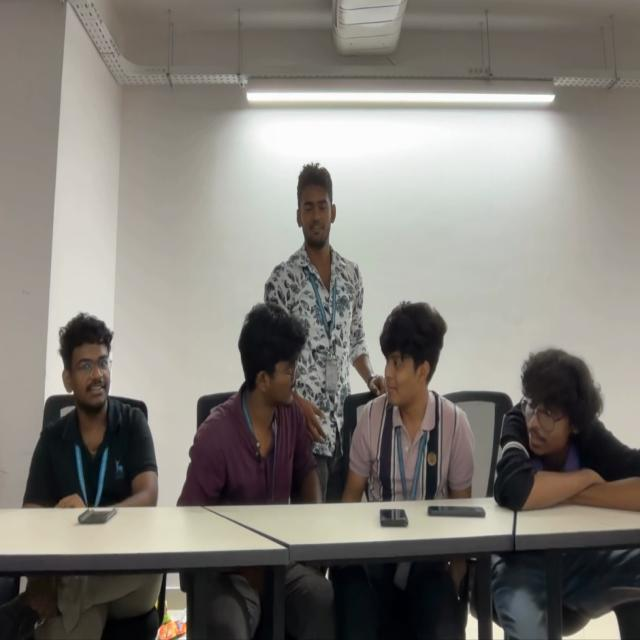Isolated: (25, 311, 159, 506), (488, 348, 640, 502)
socializing: (175, 160, 474, 499)
